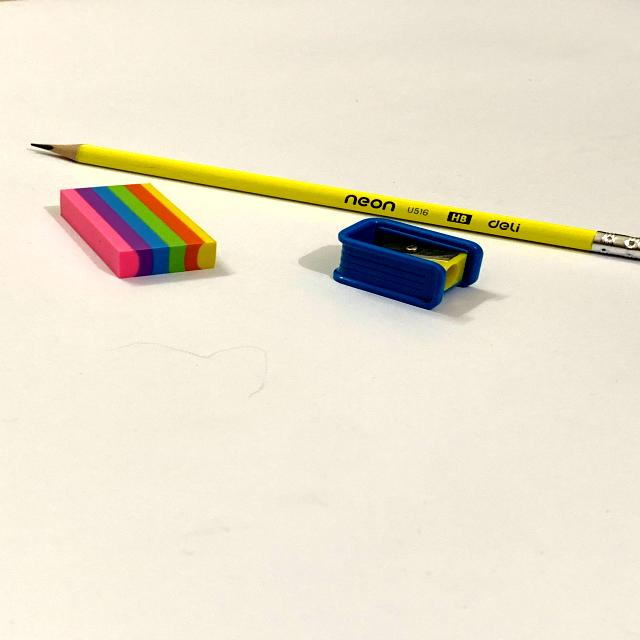Eraser: (44, 175, 257, 293)
Pencil: (13, 127, 640, 264)
Sharpner: (294, 211, 509, 315)
